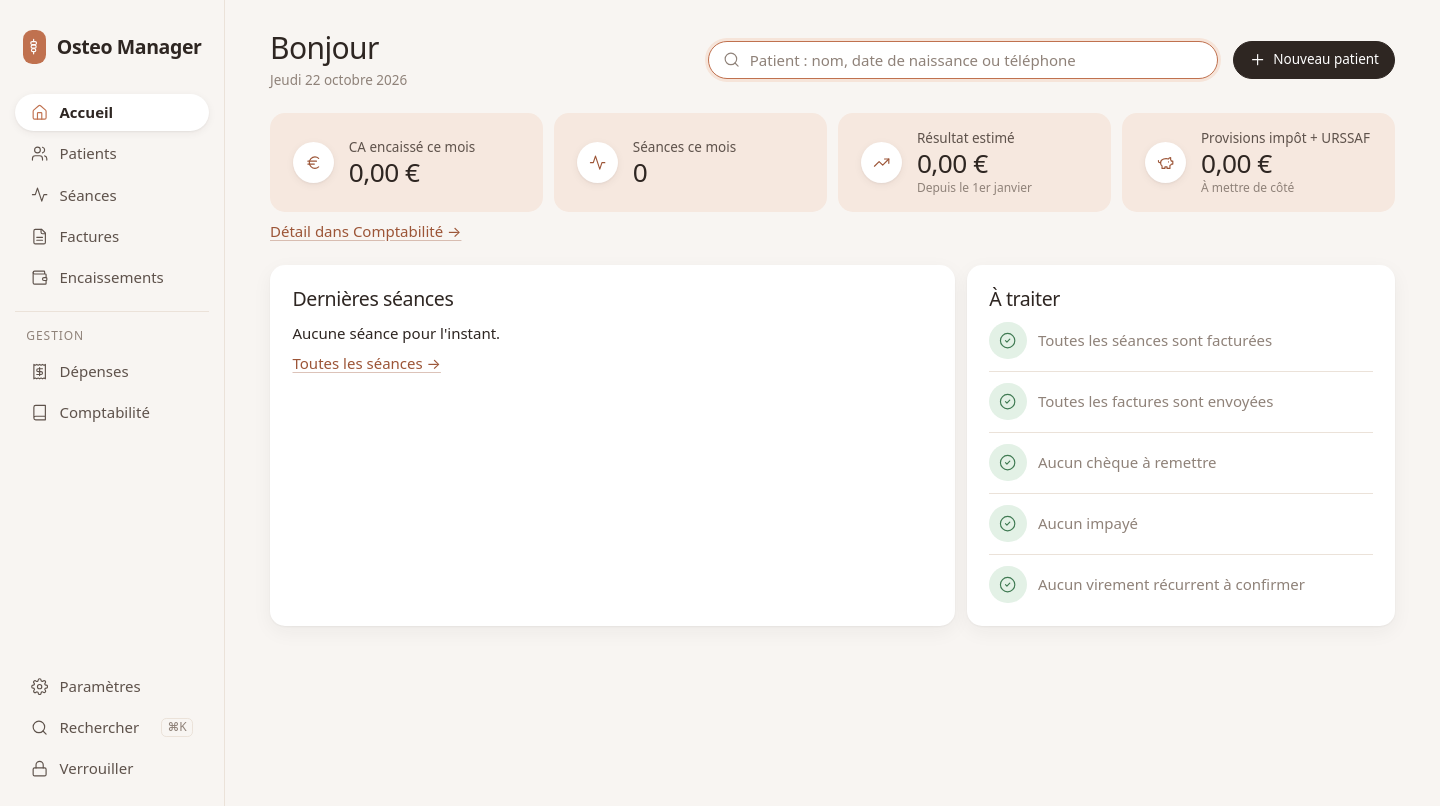
Scenario: le fournisseur enregistré est reconnu à l'ouverture
What coordinates should you click on to do the following:
click the button "Paramètres"
I would click on:
 (112, 686)
Its box is [15,668,209,705].
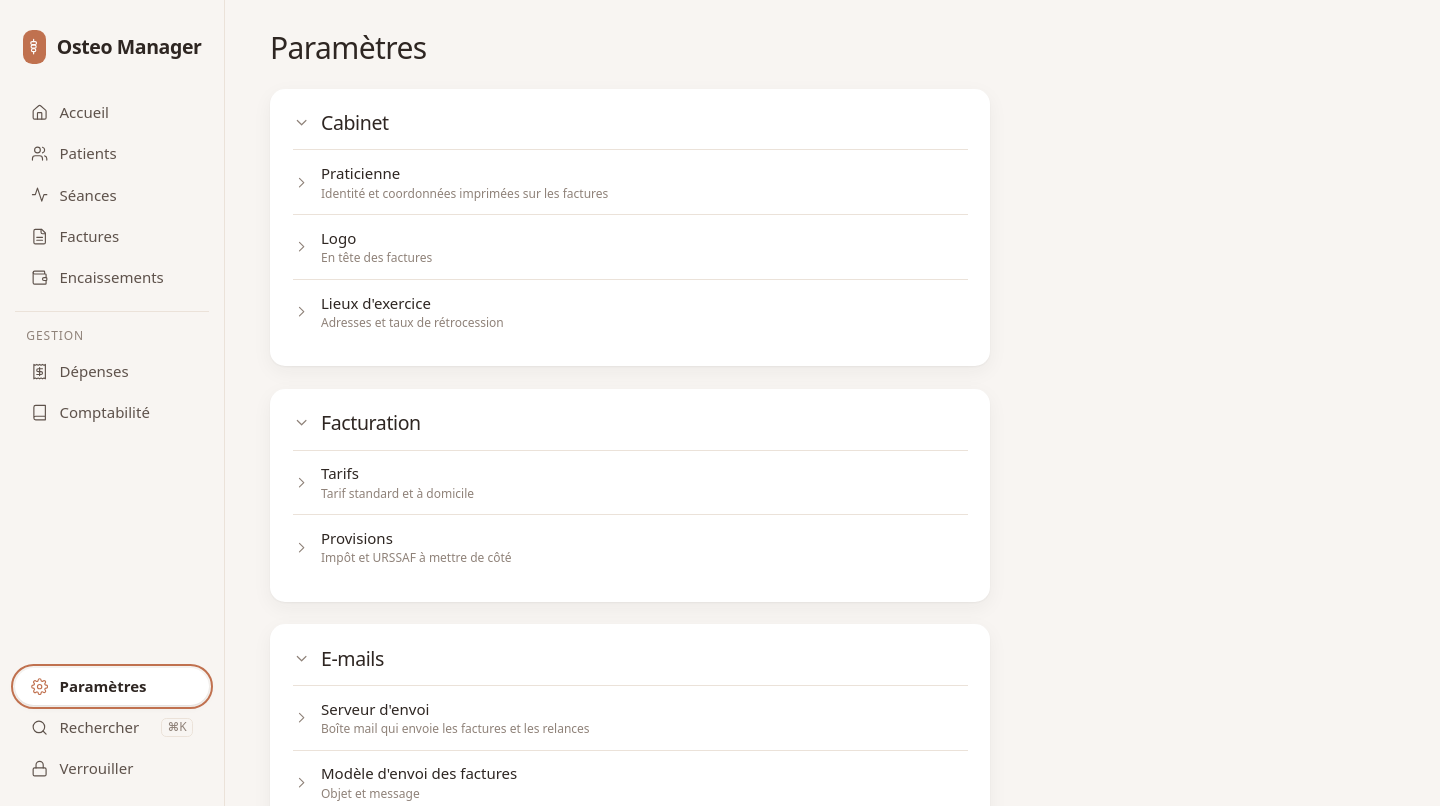
What coordinates should you click on to do the following:
click the heading "Serveur d'envoi"
I would click on:
 (375, 708)
Its box is [321,698,429,718].
(page scrolled)
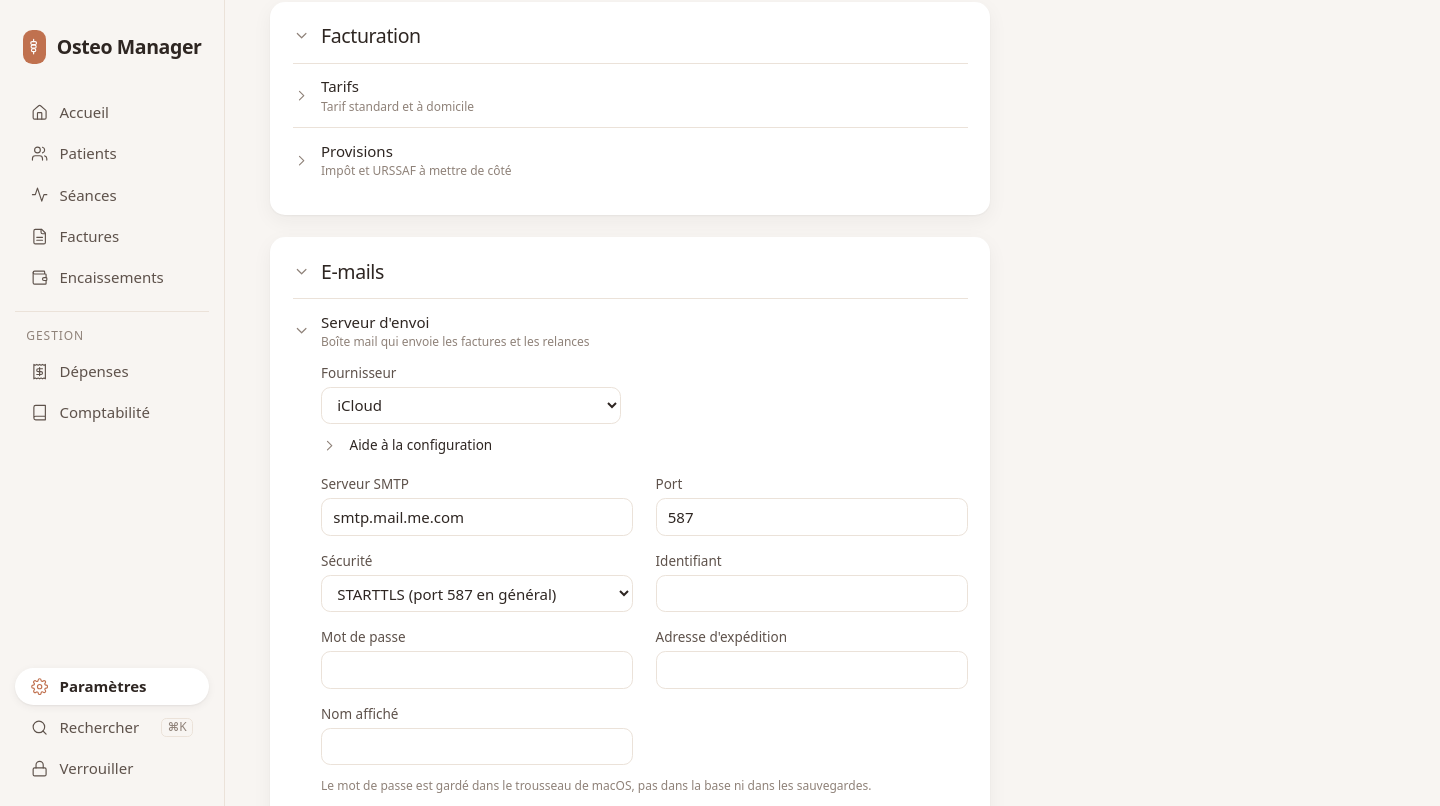
Check: the dropdown labelled "Fournisseur" shows "iCloud", box [321,387,621,424]
